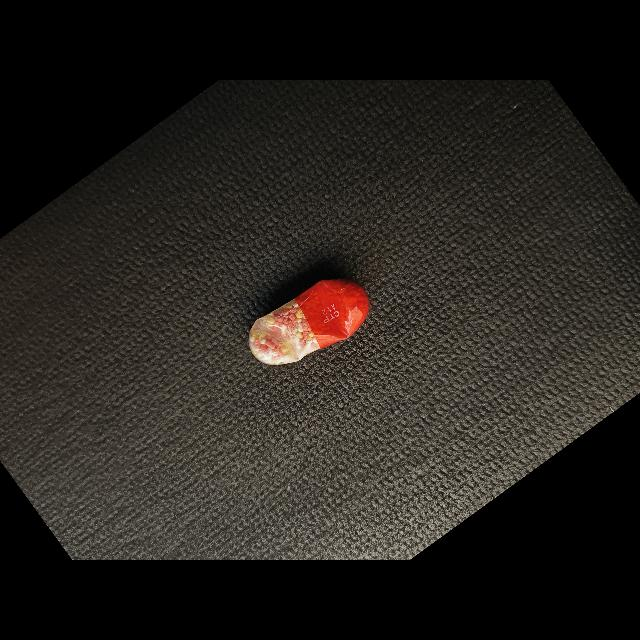Defective Capsule: (249, 279, 370, 365)
